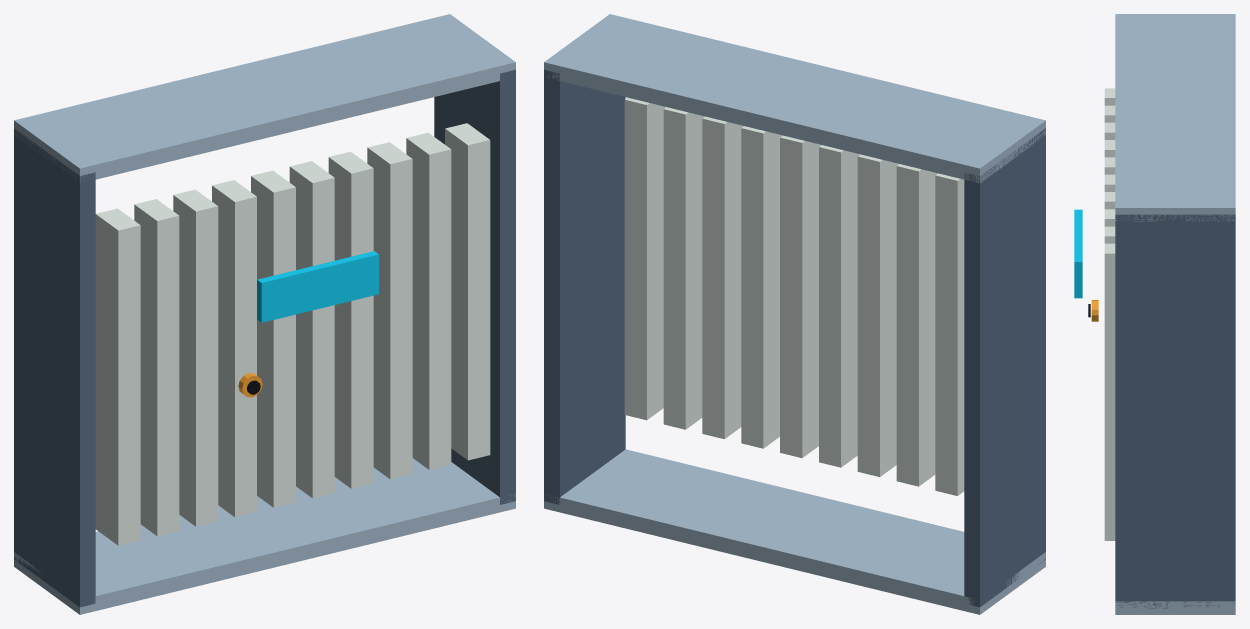
The model's file is 72_L88_TraceContaminantFilterArray.fbx.
3 views of the same model, side by side, from view 1: azimuth 30°, elevation 25°; view 2: azimuth 150°, elevation 25°; view 3: azimuth 270°, elevation 25° (orthographic). The views are drawn at different scales.
Visible parts, largest first — view 1: L87_TraceContaminantFilterArray_Part_0002, L87_TraceContaminantFilterArray_Part_0001, L87_TraceContaminantFilterArray_Part_0000, L87_TraceContaminantFilterArray_Part_0003; view 2: L87_TraceContaminantFilterArray_Part_0002, L87_TraceContaminantFilterArray_Part_0001, L87_TraceContaminantFilterArray_Part_0000; view 3: L87_TraceContaminantFilterArray_Part_0000, L87_TraceContaminantFilterArray_Part_0001, L87_TraceContaminantFilterArray_Part_0002, L87_TraceContaminantFilterArray_Part_0003.
Part boxes in pixels (x1,y1,x2,y2): L87_TraceContaminantFilterArray_Part_0002: (95,123,490,545); L87_TraceContaminantFilterArray_Part_0001: (14,14,515,614); L87_TraceContaminantFilterArray_Part_0000: (14,69,515,607); L87_TraceContaminantFilterArray_Part_0003: (257,251,378,322); L87_TraceContaminantFilterArray_Part_0002: (624,97,964,495); L87_TraceContaminantFilterArray_Part_0001: (544,14,1045,614); L87_TraceContaminantFilterArray_Part_0000: (544,69,1045,607); L87_TraceContaminantFilterArray_Part_0000: (1115,214,1235,608); L87_TraceContaminantFilterArray_Part_0001: (1115,14,1235,614); L87_TraceContaminantFilterArray_Part_0002: (1104,88,1115,540); L87_TraceContaminantFilterArray_Part_0003: (1074,209,1082,298).
Size of the model in its own units: 275 by 269 by 96.5.
